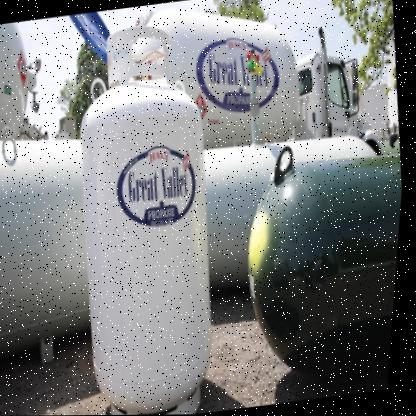gas-tank: (43, 10, 255, 415)
